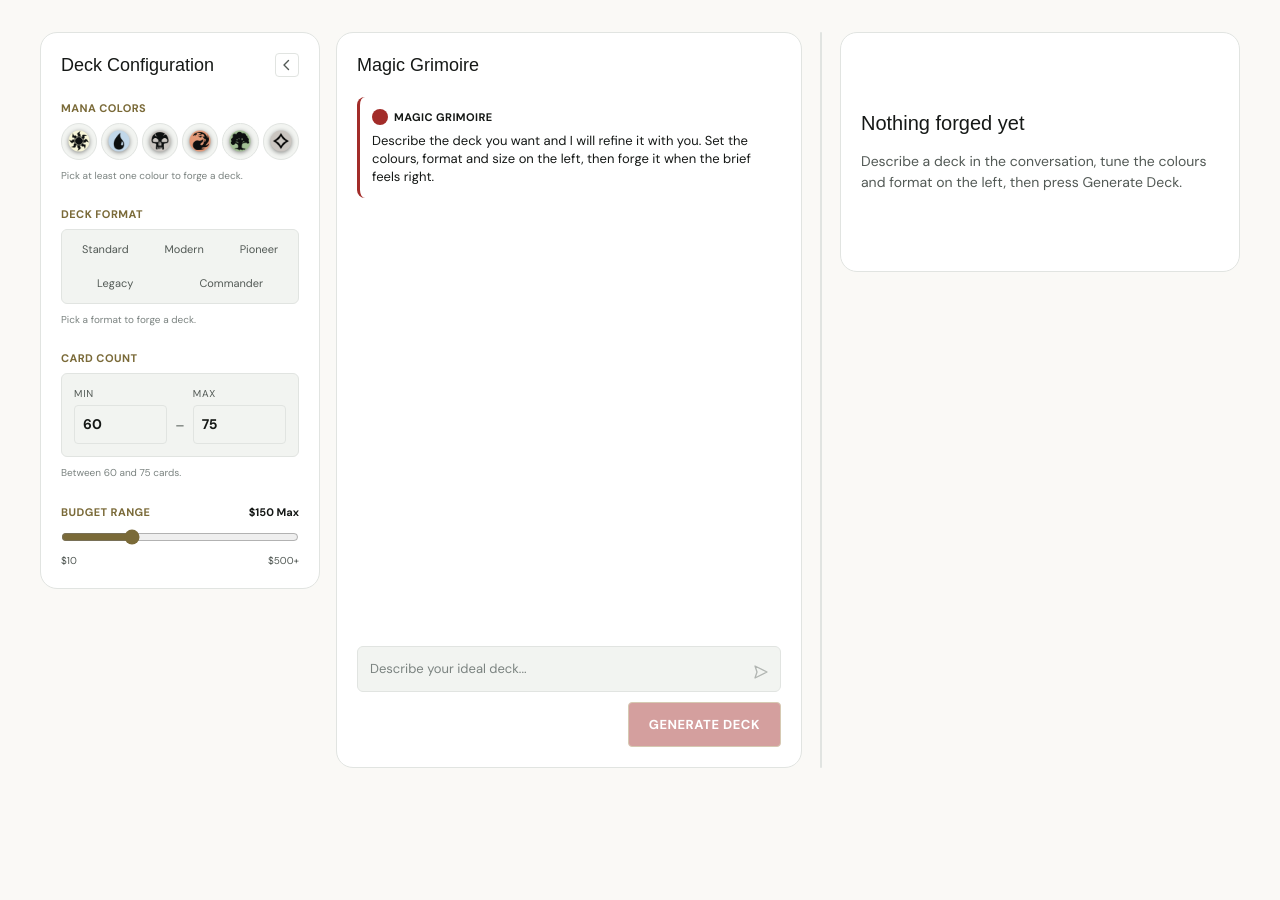
Test case: DeckBuilderPage — shell › toggles a mana colour and reflects it back
Expected: the text "Pick at least one colour to forge a deck." is shown, [61,169,243,182]
Click the 3rd button named "Black" at (160, 141), box [142,123,178,160]
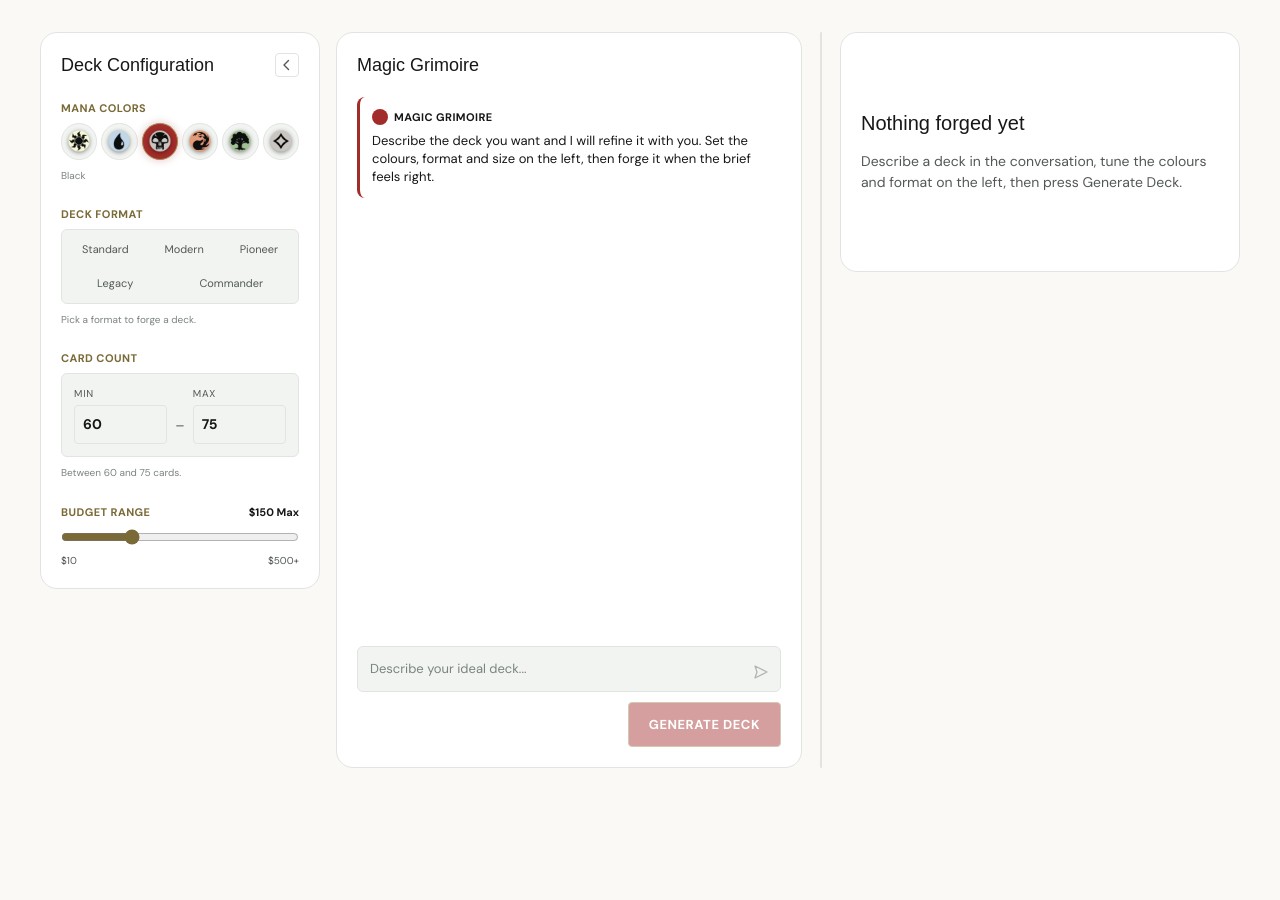
Click the 4th button named "Red" at (200, 141), box [182,123,218,160]
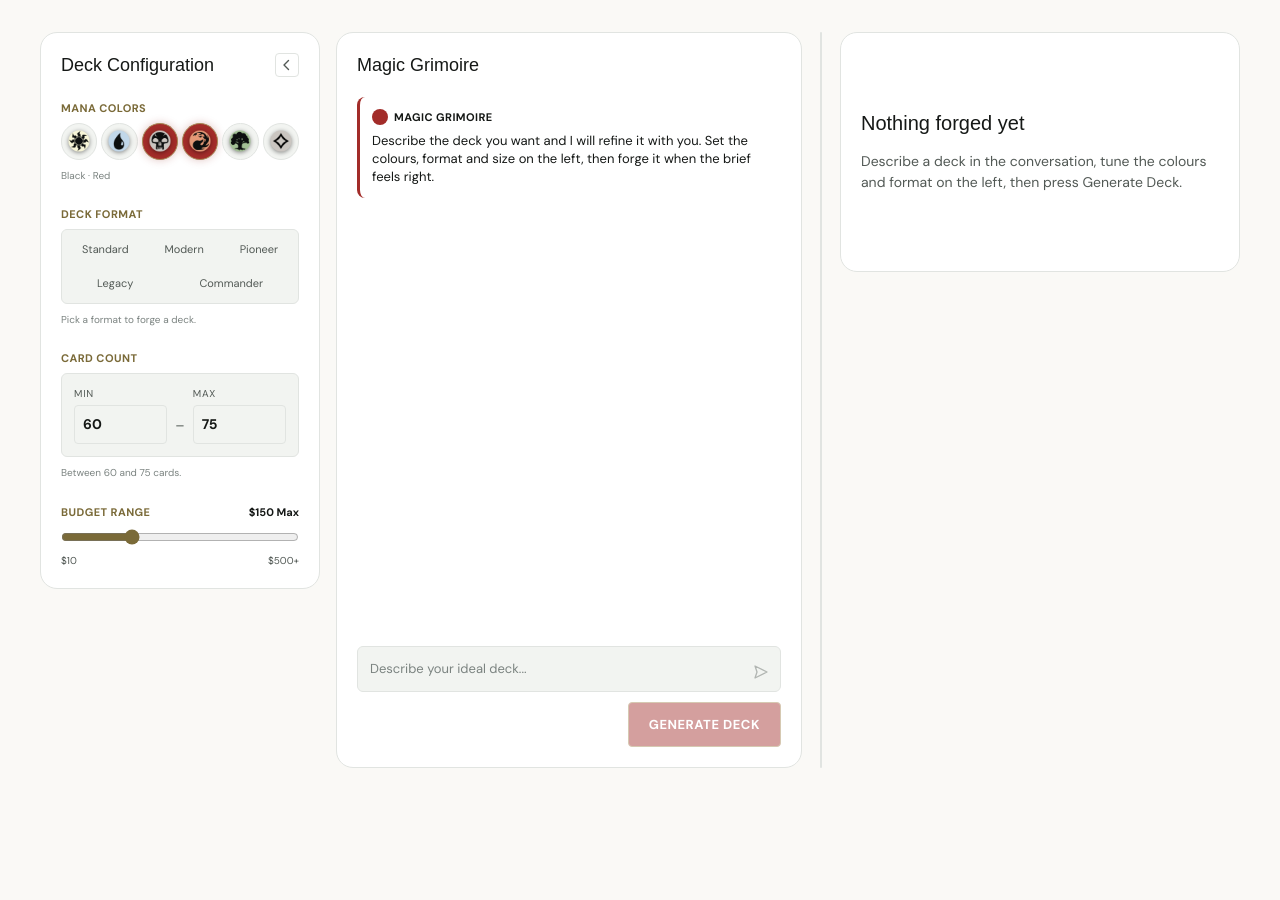
Now the text "Black · Red" is shown, box [61,169,110,182]
